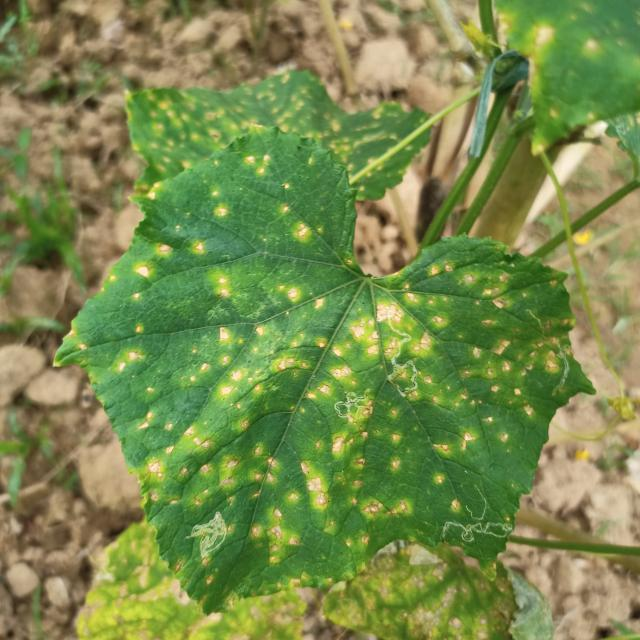disease_cucumber: (111, 259, 574, 579), (279, 204, 320, 244), (157, 240, 209, 257), (243, 151, 274, 179), (209, 190, 231, 220)
